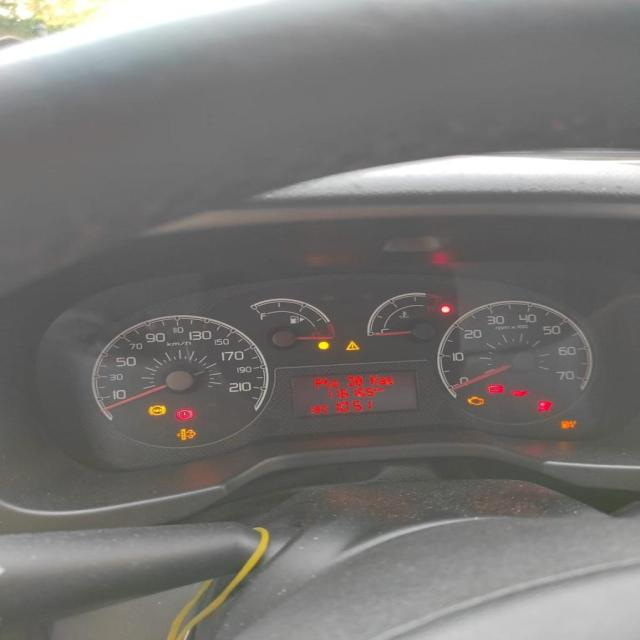odometer: (290, 370, 422, 418)
